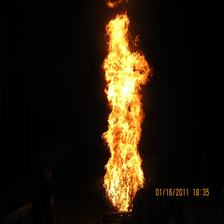fire: (90, 10, 153, 215)
